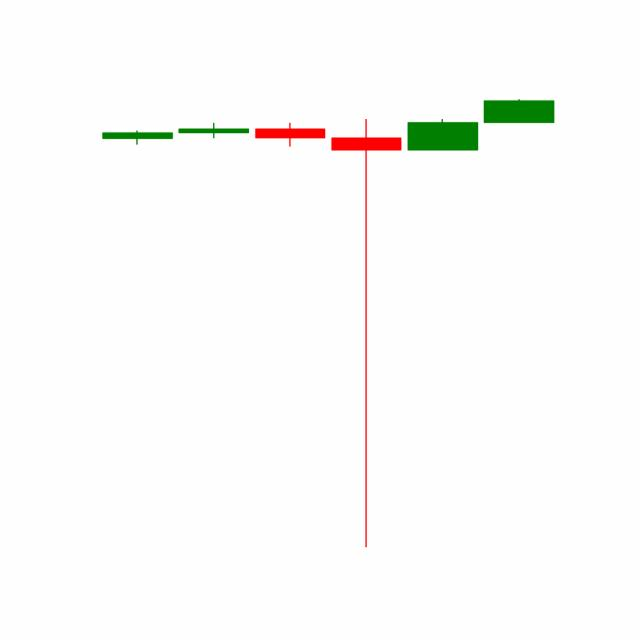Marubozu: (403, 118, 481, 151)
